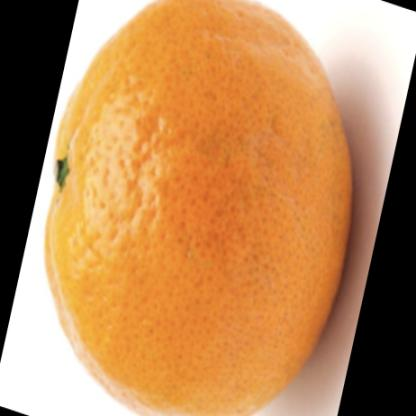fresh: (51, 1, 354, 416)
